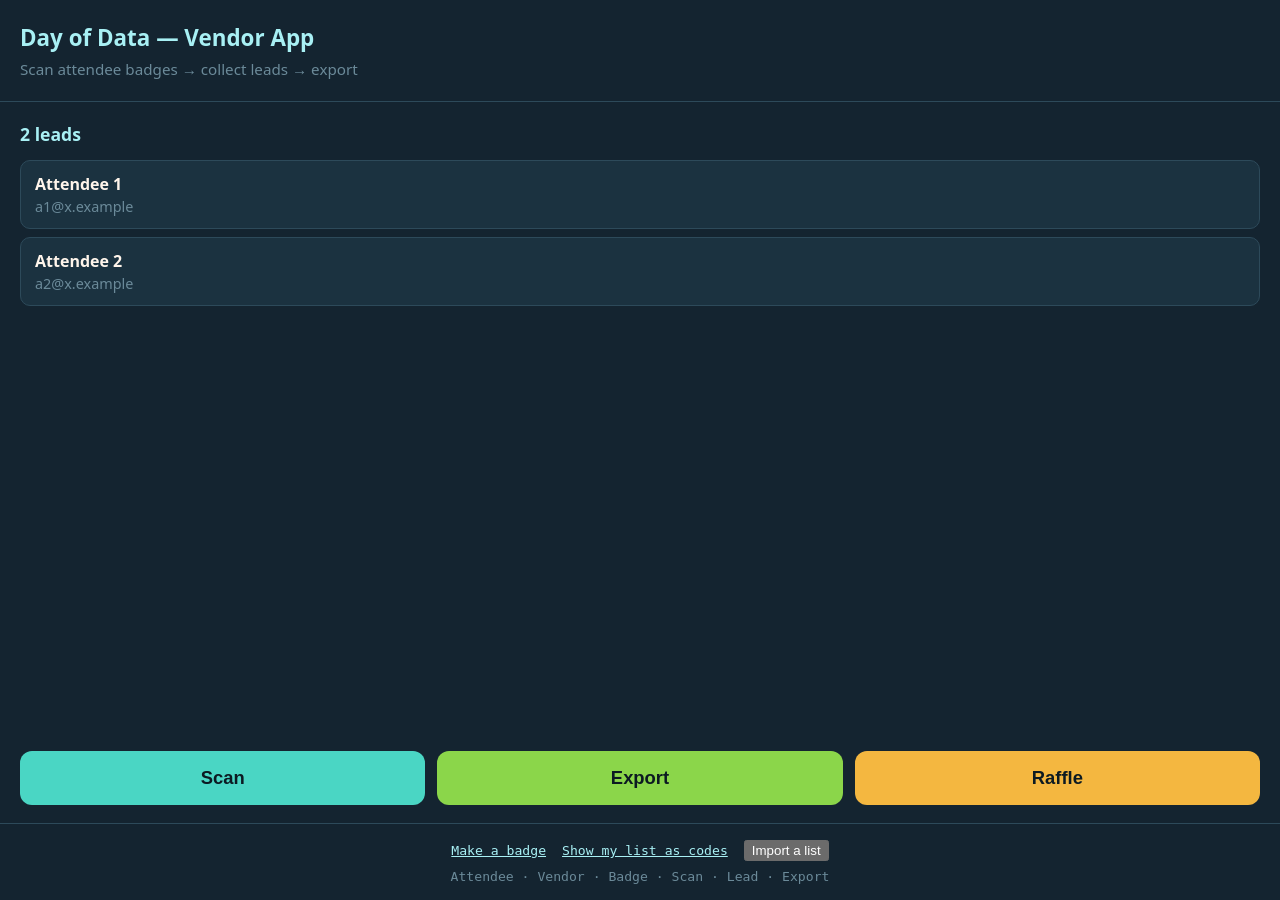
Test: Share list (Merge sender) flow › opening then closing the share view (without the archive button) archives nothing
Click the button "Show my list as codes" at (645,850), box [562,840,728,861]
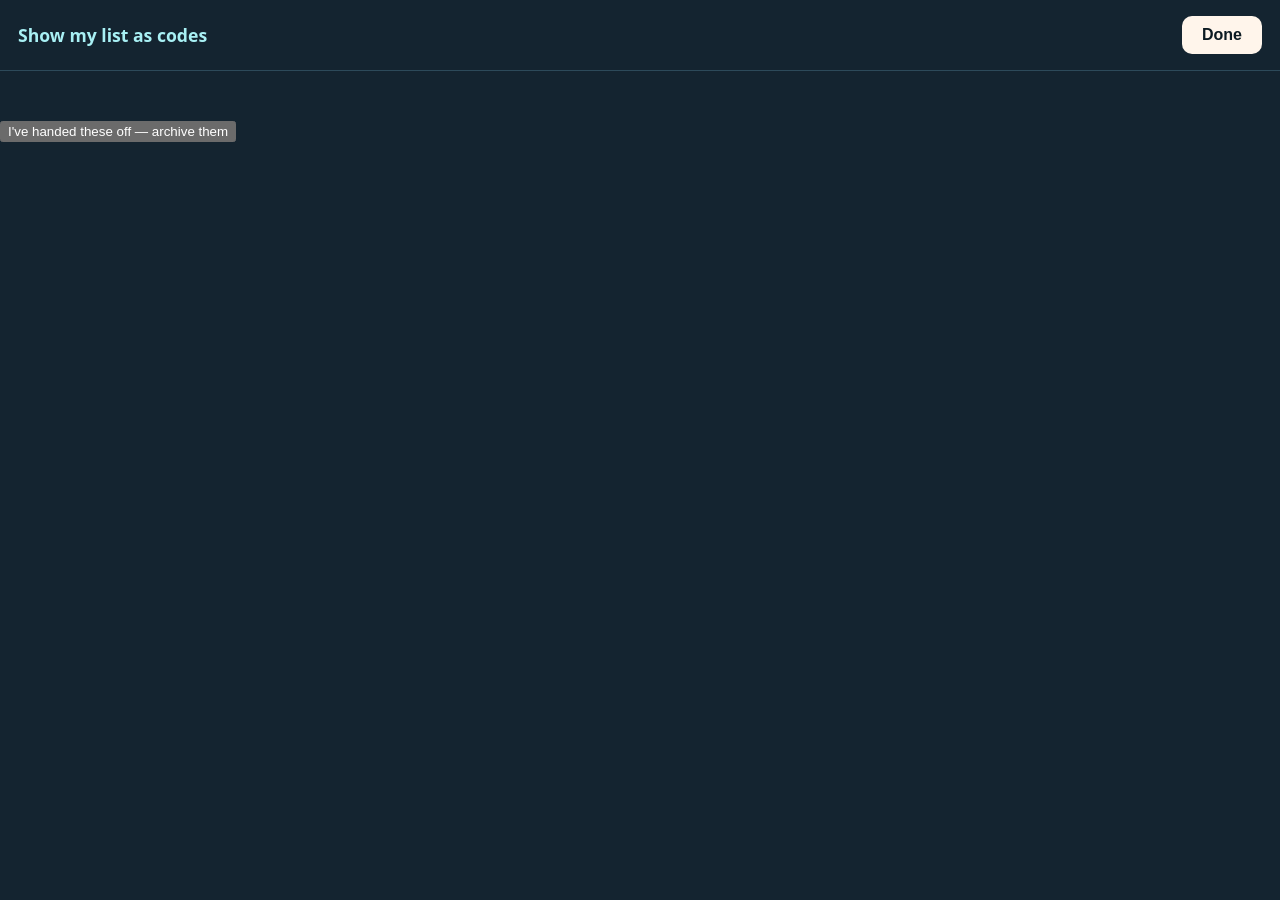
Close with Done — NOT the archive action.
Click the button "Done" at (1222,35), box [1182,16,1262,54]
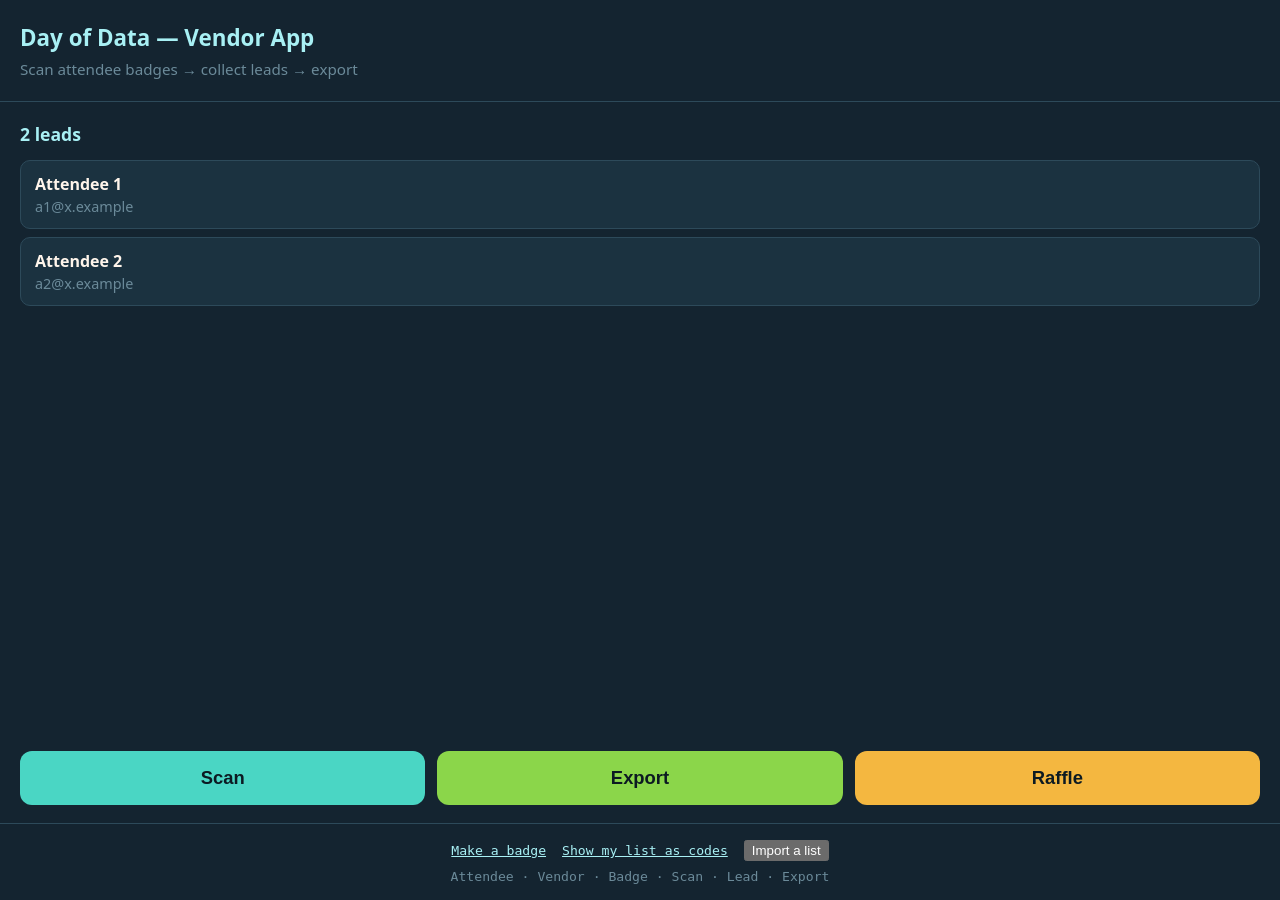
Expected: the text with test id "lead-count" reads "2 leads", [20,122,81,146]
Expected: the element with test id "share-overlay" is gone
